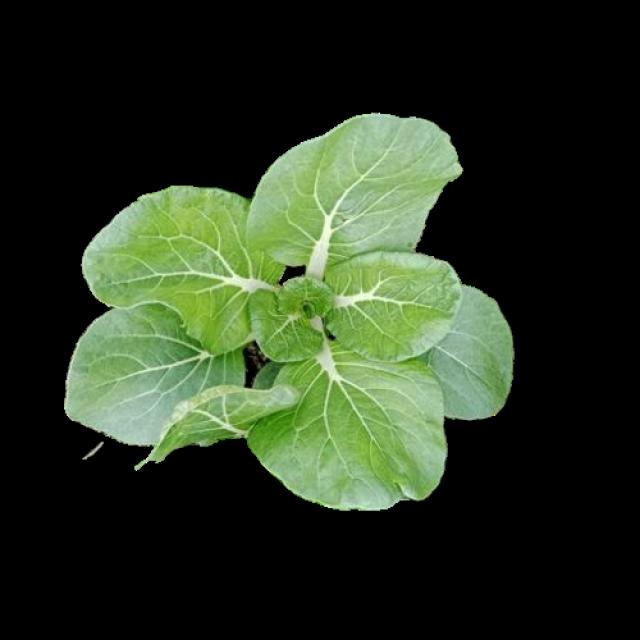healthy: (63, 113, 508, 507)
mature: (65, 116, 511, 510)
